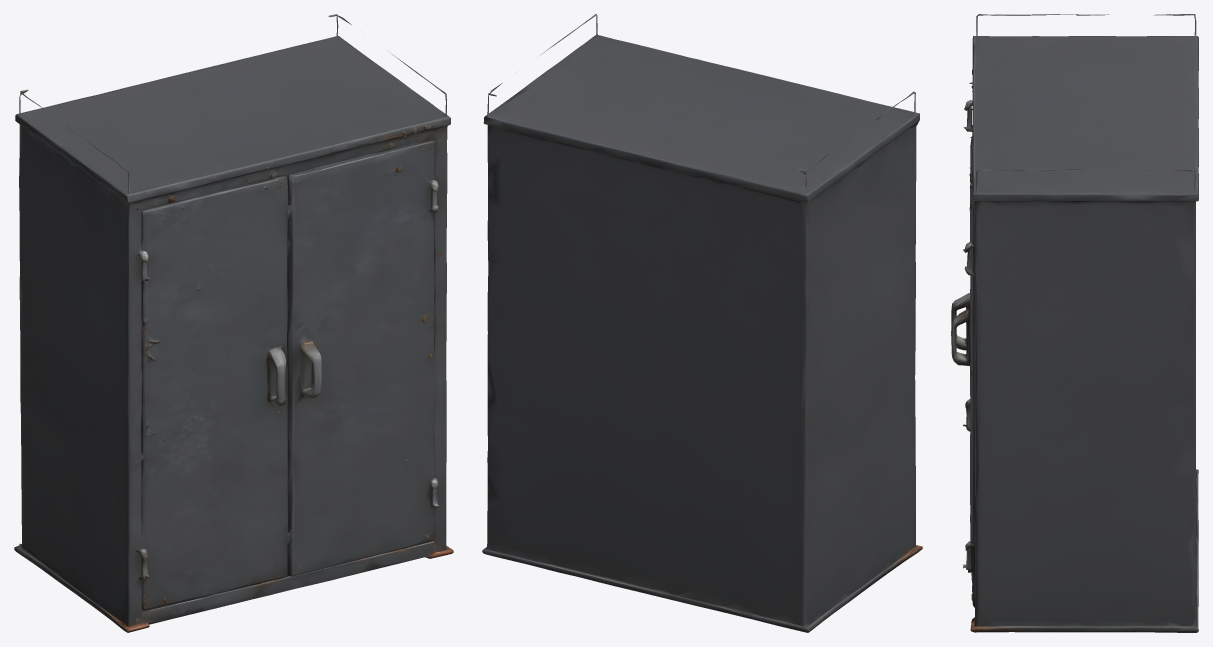
The model's file is level1-locker.glb.
The picture shows the model from 3 angles, left to right: view 1: azimuth 30°, elevation 25°; view 2: azimuth 150°, elevation 25°; view 3: azimuth 270°, elevation 25°; orthographic projection.
Parts seen in each view (by area): view 1: tripo_node_144abe73-5ae4-43d9-862d-210f861867a2; view 2: tripo_node_144abe73-5ae4-43d9-862d-210f861867a2; view 3: tripo_node_144abe73-5ae4-43d9-862d-210f861867a2.
Part boxes in pixels (left/top/right/bottom): tripo_node_144abe73-5ae4-43d9-862d-210f861867a2: left=14, top=14, right=453, bottom=632; tripo_node_144abe73-5ae4-43d9-862d-210f861867a2: left=482, top=14, right=922, bottom=632; tripo_node_144abe73-5ae4-43d9-862d-210f861867a2: left=951, top=14, right=1198, bottom=632.
Size of the model in its own units: 0.7278 by 0.9823 by 0.4767.
Materials: 1 (1 with a texture image).
